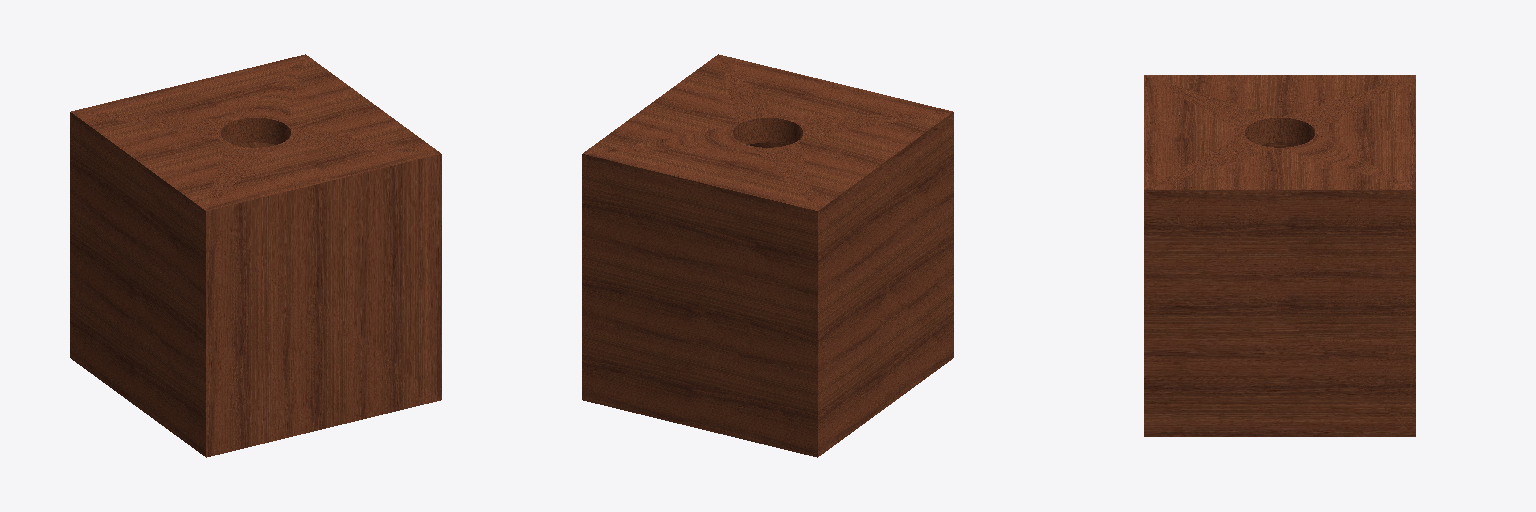
3 renders of one model, left to right at view 1: azimuth 30°, elevation 25°; view 2: azimuth 150°, elevation 25°; view 3: azimuth 270°, elevation 25°, orthographic.
Parts seen in each view (by area): view 1: Board-Hard.002; view 2: Board-Hard.002; view 3: Board-Hard.002.
Boxes of the visible parts, box(x1,y1,x2,y2) form: Board-Hard.002: box(70, 54, 441, 457); Board-Hard.002: box(582, 54, 953, 457); Board-Hard.002: box(1144, 75, 1415, 436).
Bounding box in the file's own units: 0.2 × 0.2 × 0.2.
Materials: 1 (1 with a texture image).